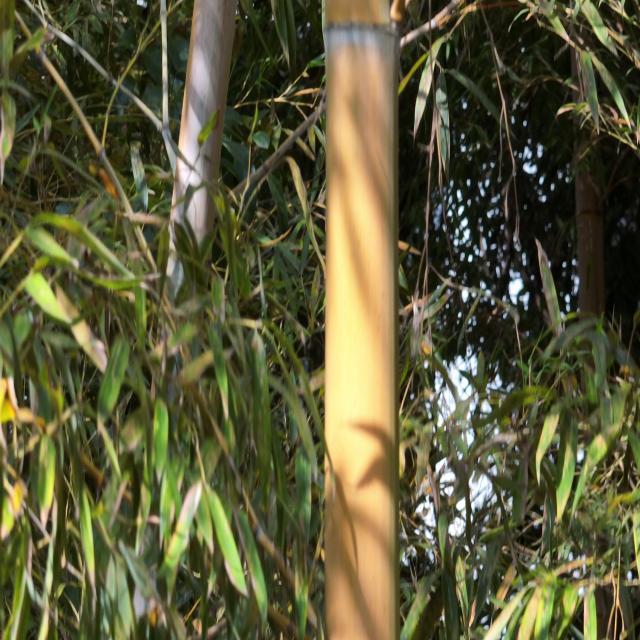Bamboo-shoots: (159, 0, 239, 318)
